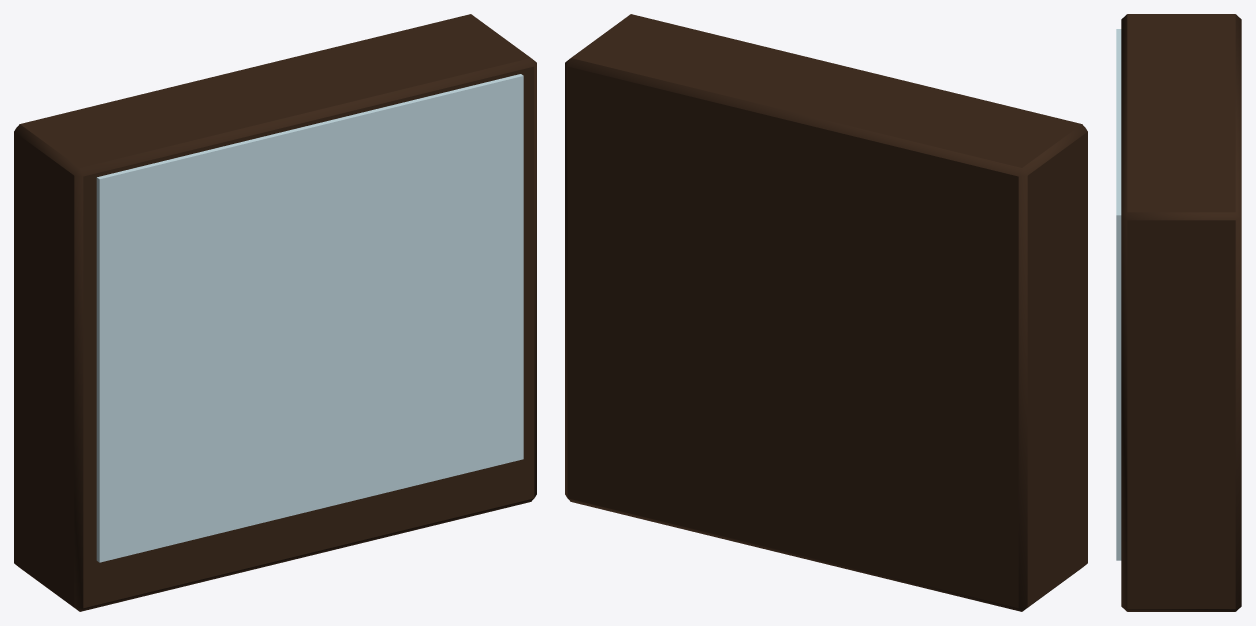
The model's file is trophy_cabinet.glb.
3 renders of one model, left to right at view 1: azimuth 30°, elevation 25°; view 2: azimuth 150°, elevation 25°; view 3: azimuth 270°, elevation 25°, orthographic. The views are drawn at different scales.
Visible parts, largest first — view 1: trophy_cabinet; view 2: trophy_cabinet; view 3: trophy_cabinet.
Boxes of the visible parts, box(x1,y1,x2,y2) form: trophy_cabinet: box(14, 14, 536, 611); trophy_cabinet: box(565, 14, 1087, 611); trophy_cabinet: box(1116, 14, 1241, 611).
Bounding box in the file's own units: 2.4 × 2.2 × 0.625.
